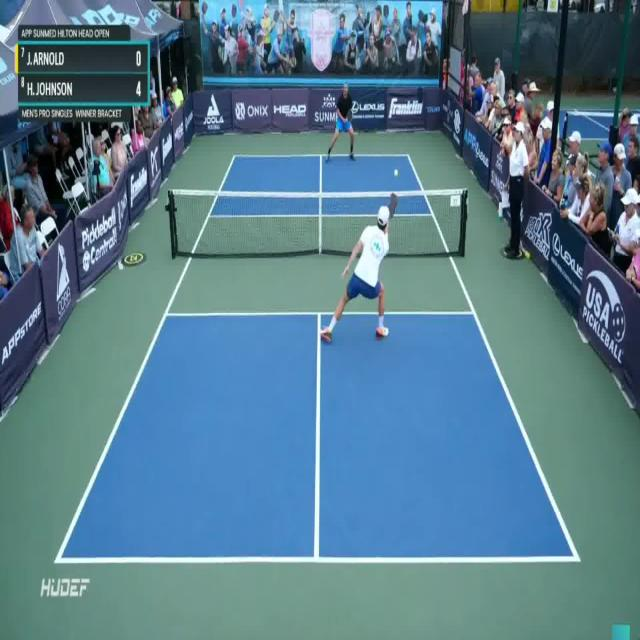Court: (55, 154, 580, 563)
ball: (392, 168, 398, 182)
